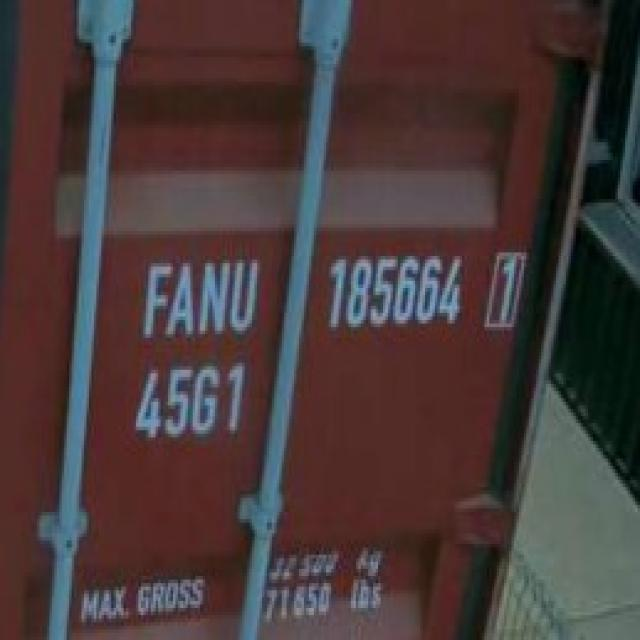dv: (482, 247, 529, 337)
owner: (136, 252, 266, 345)
serial: (324, 247, 468, 336)
size: (125, 359, 251, 448)
